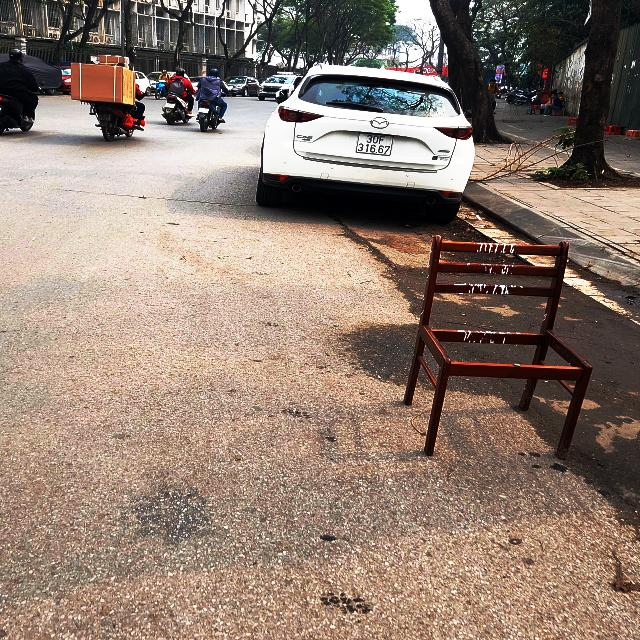license_plate: (356, 133, 395, 158)
